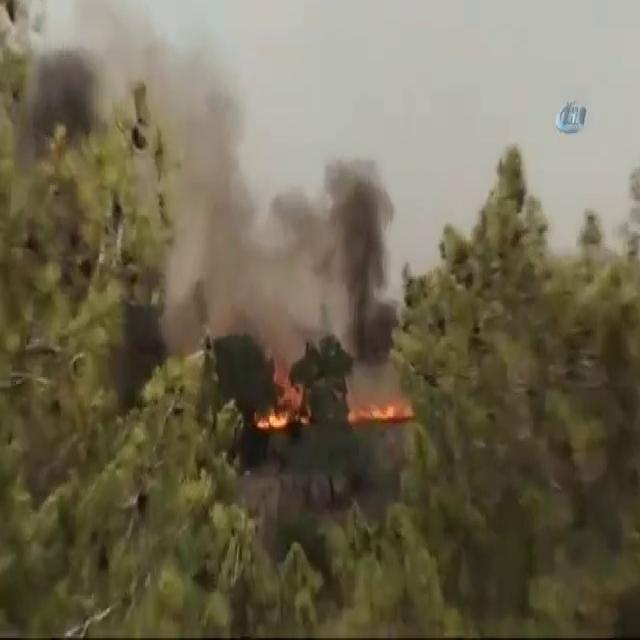Fire: (255, 335, 411, 464)
Smoke: (103, 58, 329, 296)
